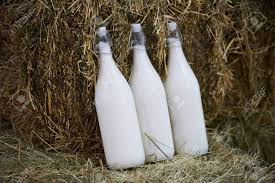milk: (77, 25, 143, 172), (161, 19, 217, 161), (127, 23, 177, 164)
